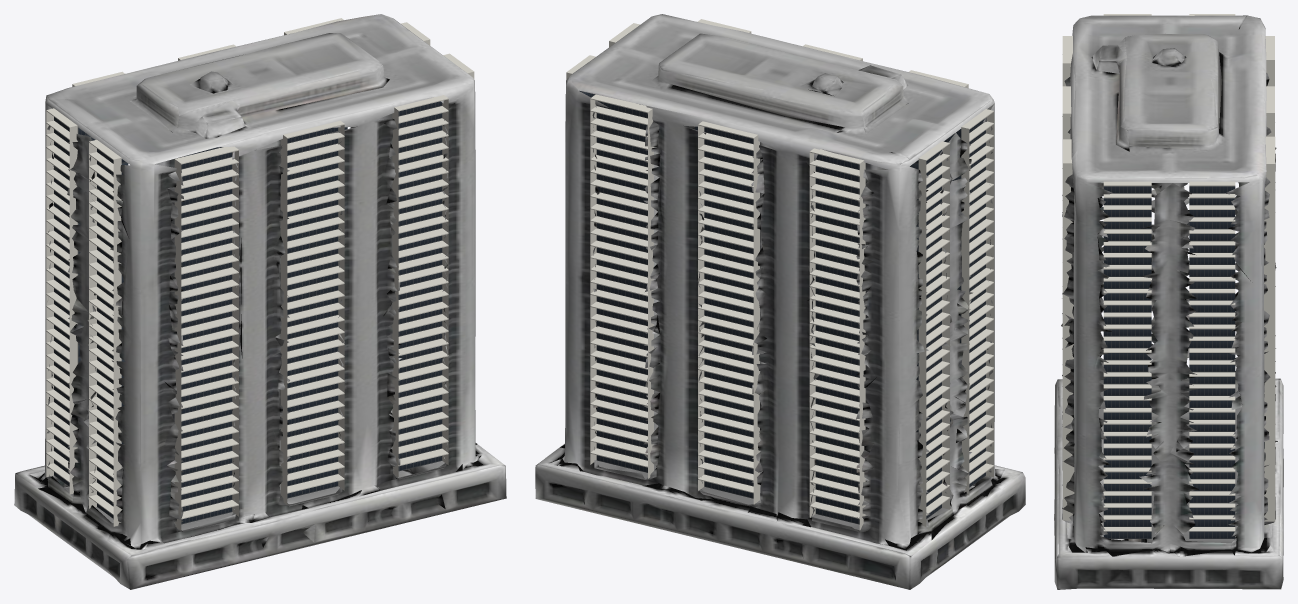
The model's file is lsd_644_n_hotel.glb.
The picture shows the model from 3 angles, left to right: view 1: azimuth 30°, elevation 25°; view 2: azimuth 150°, elevation 25°; view 3: azimuth 270°, elevation 25°; orthographic projection. The views are drawn at different scales.
Parts seen in each view (by area): view 1: lsd_644_n_hotel; view 2: lsd_644_n_hotel; view 3: lsd_644_n_hotel.
Boxes of the visible parts, x1,y1,x2,y2 form: lsd_644_n_hotel: [14, 14, 506, 589]; lsd_644_n_hotel: [535, 14, 1025, 589]; lsd_644_n_hotel: [1054, 14, 1283, 589].
Size of the model in its own units: 82 by 90.8 by 44.
Materials: 3 (3 with a texture image).
